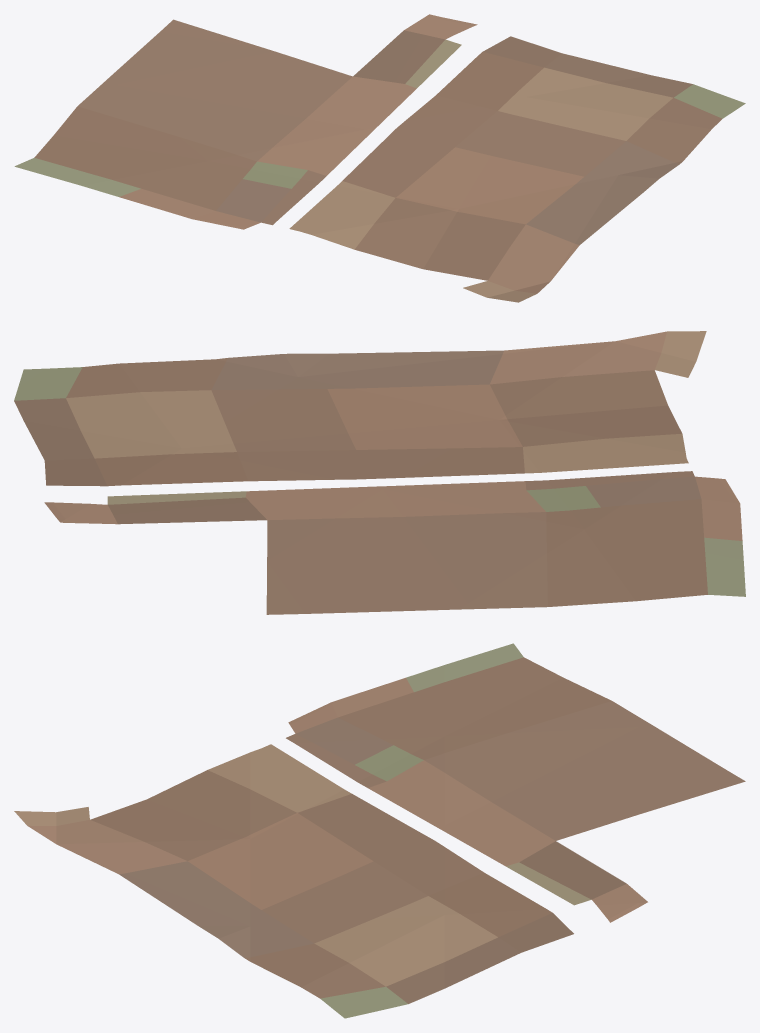
The model's file is farm_8_16_soil.glb.
The picture shows the model from 3 angles, top to bottom: view 1: azimuth 30°, elevation 25°; view 2: azimuth 150°, elevation 25°; view 3: azimuth 270°, elevation 25°; orthographic projection. The views are drawn at different scales.
Visible parts, largest first — view 1: geometry_0; view 2: geometry_0; view 3: geometry_0.
Part boxes in pixels (box(x1,y1,x2,y2)): geometry_0: box(14, 14, 745, 302); geometry_0: box(14, 331, 745, 614); geometry_0: box(14, 643, 745, 1018).
Bounding box in the file's own units: 327 × 18.27 × 302.
